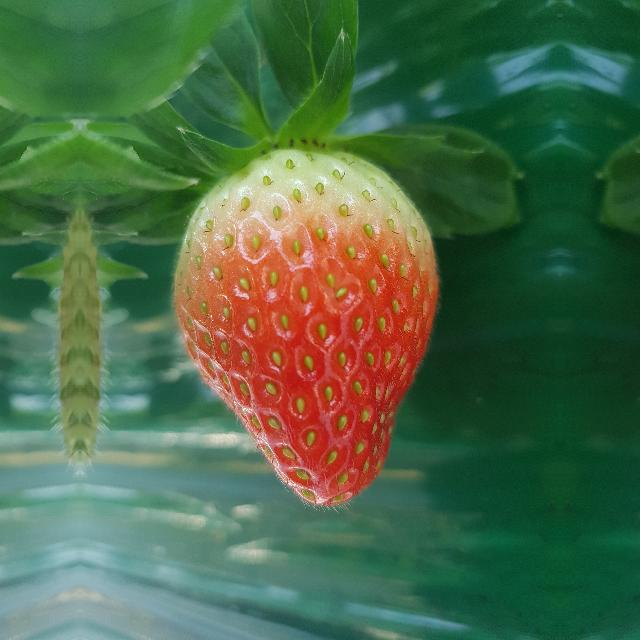Health_75: (172, 148, 440, 508)
